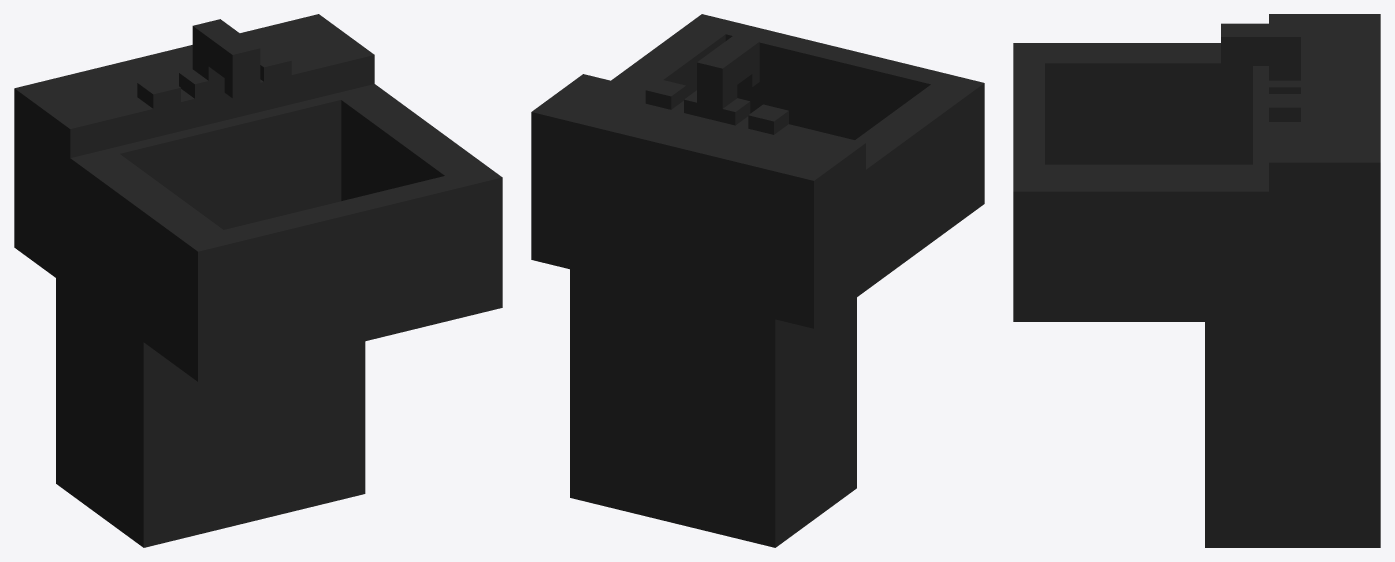
File: sink.obj
3 views of the same model, side by side, from view 1: azimuth 30°, elevation 25°; view 2: azimuth 150°, elevation 25°; view 3: azimuth 270°, elevation 25° (orthographic). The views are drawn at different scales.
Visible parts, largest first — view 1: sink; view 2: sink; view 3: sink.
Boxes of the visible parts, x1,y1,x2,y2 form: sink: (14,14,502,547); sink: (531,14,984,547); sink: (1013,14,1380,547).
Bounding box in the file's own units: 22 × 32 × 23.
